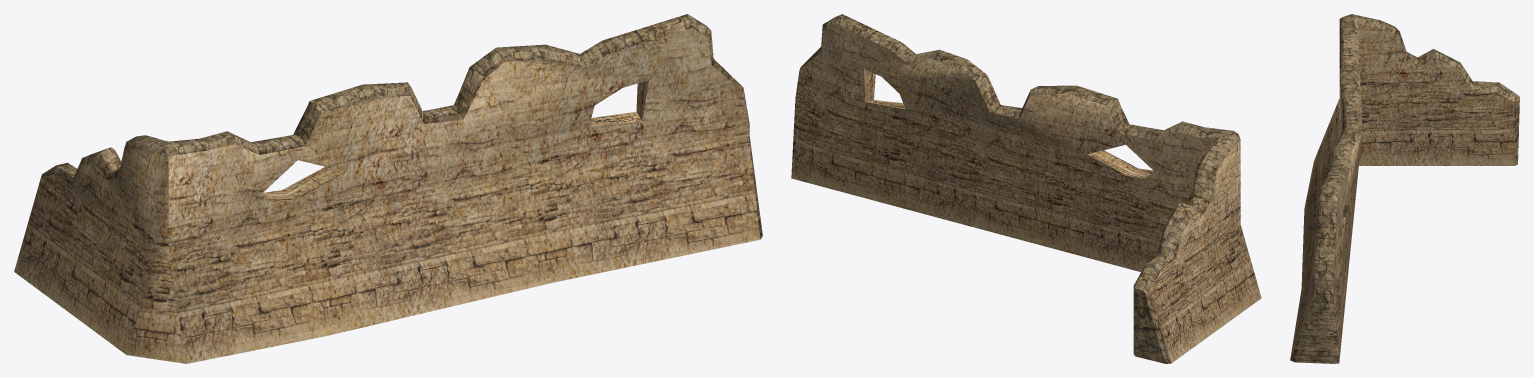
File: Ruins_Wall_02.fbx
The picture shows the model from 3 angles, left to right: view 1: azimuth 30°, elevation 25°; view 2: azimuth 150°, elevation 25°; view 3: azimuth 270°, elevation 25°; orthographic projection. The views are drawn at different scales.
Visible parts, largest first — view 1: Ruins_Wall_02; view 2: Ruins_Wall_02; view 3: Ruins_Wall_02.
Boxes of the visible parts, x1=… form: Ruins_Wall_02: x1=14, y1=14, x2=762, y2=363; Ruins_Wall_02: x1=791, y1=14, x2=1261, y2=363; Ruins_Wall_02: x1=1290, y1=14, x2=1519, y2=363.
Size of the model in its own units: 9.44 by 3.21 by 4.26.
2 materials, 2 textured.
